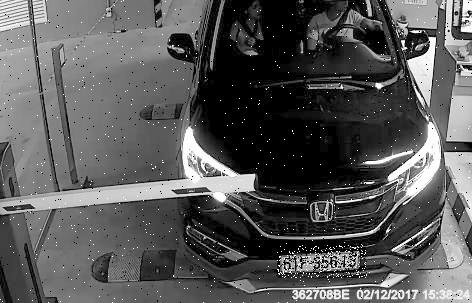License-plate: (279, 246, 369, 279)
